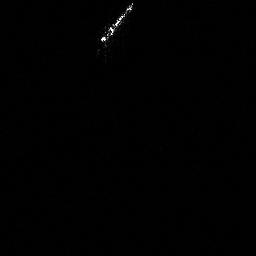ship: (97, 2, 136, 48)
